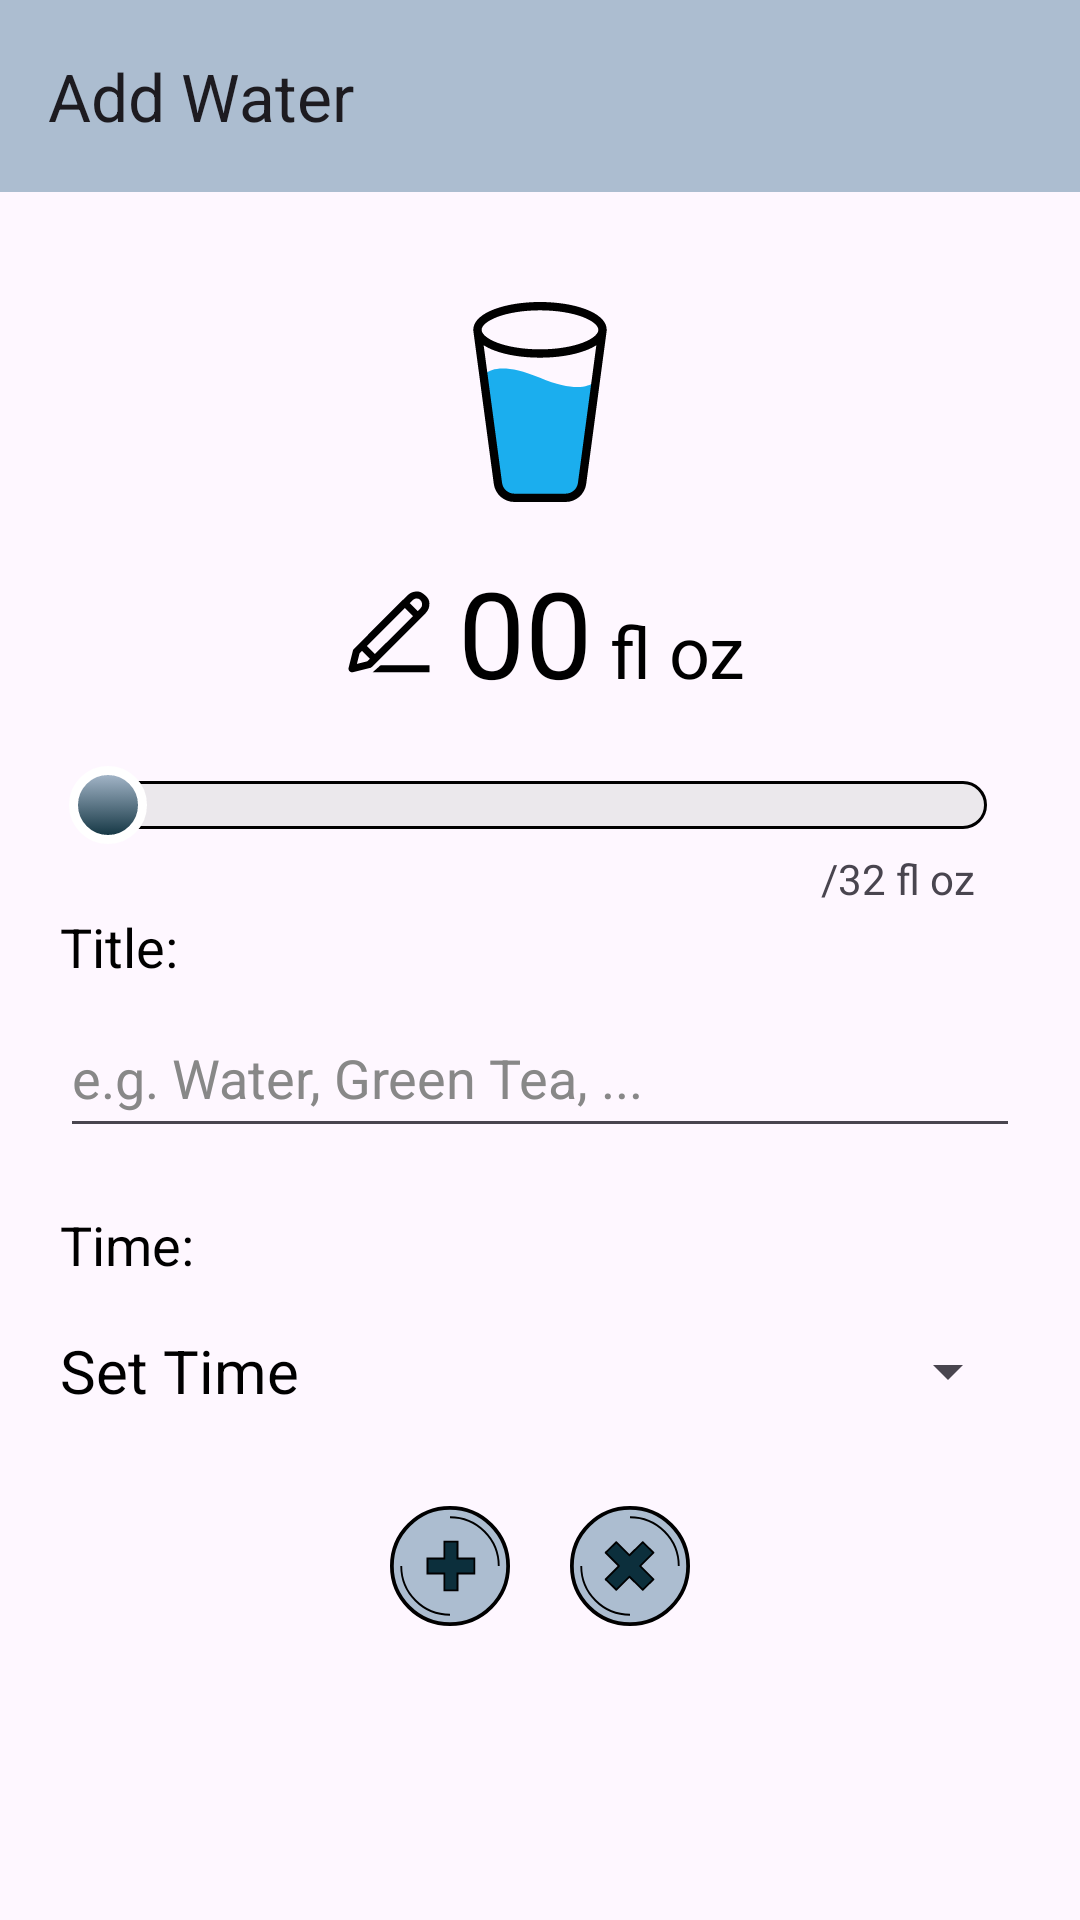

Screen size 1080x1920. Icon name, then its box in pixels as (x1, y1, x2, y2):
add: (390, 1506, 510, 1626)
delete: (570, 1506, 690, 1626)
edit pencil: (348, 591, 430, 673)
water cup: (473, 302, 607, 502)
